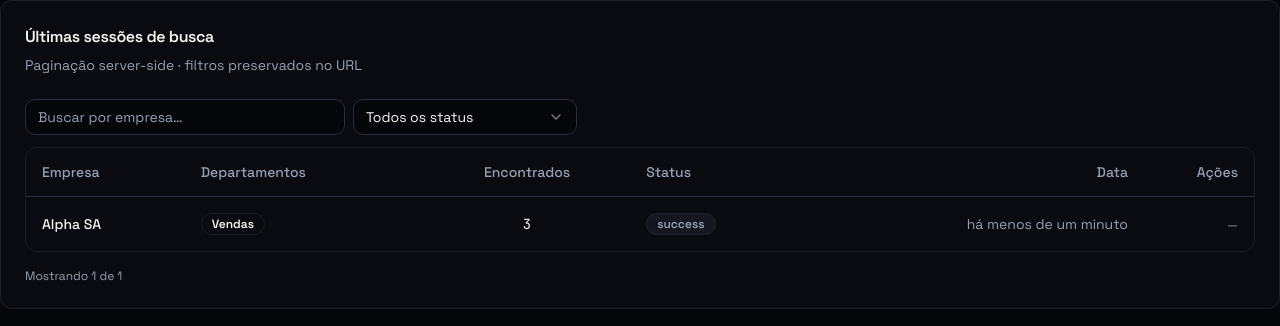
Test case: SessionsPanel (R36 server-side) › estado vazio filtrado quando o backend retorna zero com filtros ativos
The image size is (1280, 326).
Step 1. Type "zzz" into the field named "Buscar sessão por empresa" → {"x": 185, "y": 117}, box x1=25 y1=99 x2=345 y2=135
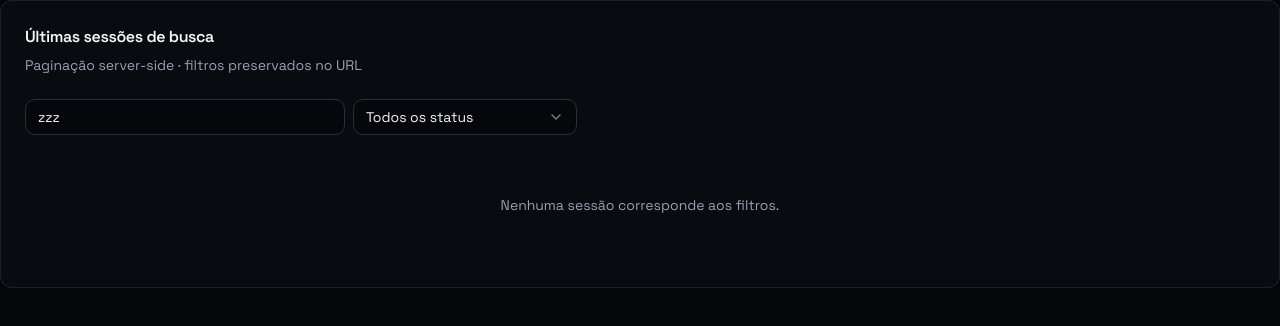
Now the text "Nenhuma sessão corresponde aos filtros." is shown, box x1=501 y1=196 x2=779 y2=214
Now the table is gone
